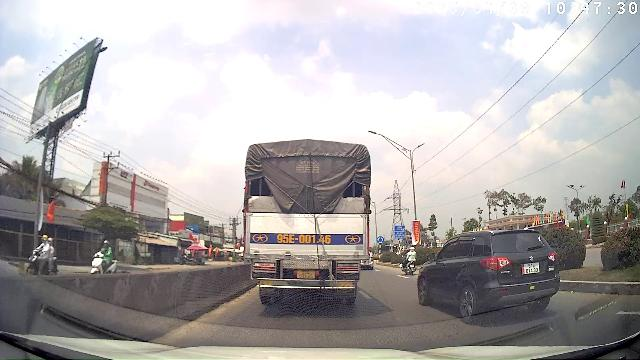303-noi-giao-nhau-chay-theo-vong-xuyen: (376, 236, 384, 244)
